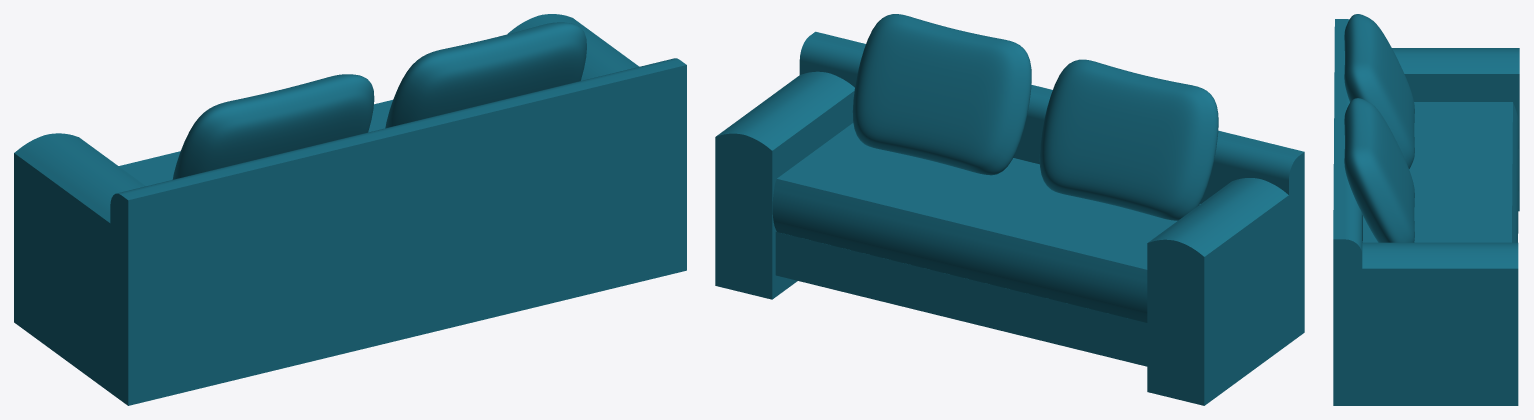
File: Canape1_9.fbx
3 renders of one model, left to right at view 1: azimuth 30°, elevation 25°; view 2: azimuth 150°, elevation 25°; view 3: azimuth 270°, elevation 25°, orthographic. The views are drawn at different scales.
Parts seen in each view (by area): view 1: pCube1068, pCube2517, pCube2516, pCube2518; view 2: pCube1068, pCube2518, pCube2517, pCube2516, pCube2515; view 3: pCube1068, pCube2518, pCube2517, pCube2516.
Part boxes in pixels (left/top/right/bottom): pCube1068: left=14, top=14, right=686, bottom=405; pCube2517: left=385, top=22, right=586, bottom=128; pCube2516: left=172, top=74, right=374, bottom=179; pCube2518: left=119, top=100, right=392, bottom=186; pCube1068: left=715, top=31, right=1304, bottom=405; pCube2518: left=772, top=123, right=1200, bottom=322; pCube2517: left=852, top=14, right=1031, bottom=175; pCube2516: left=1039, top=59, right=1218, bottom=220; pCube2515: left=775, top=231, right=1147, bottom=366; pCube1068: left=1333, top=19, right=1519, bottom=405; pCube2518: left=1362, top=102, right=1518, bottom=242; pCube2517: left=1344, top=98, right=1414, bottom=242; pCube2516: left=1344, top=14, right=1414, bottom=168.
Bounding box in the file's own units: 166 × 74.66 × 59.34.
